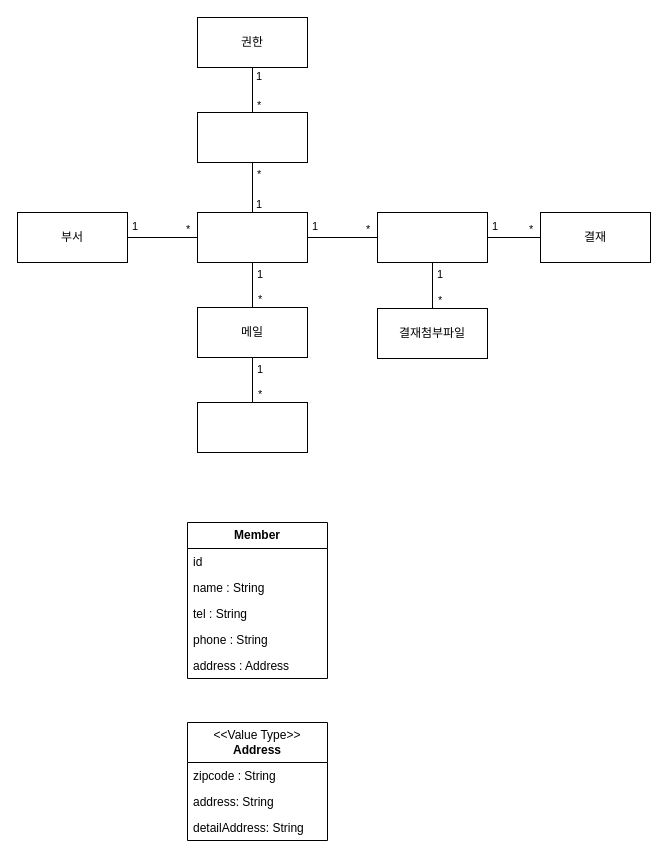
This 668x861 diagram has some shape labels left out. The centre of each missing label's shape, as x and y in pixels:
결재문서: the point at 432,237
메일첨부파일: the point at 252,427
회원: the point at 252,237
회원_권한: the point at 252,137
